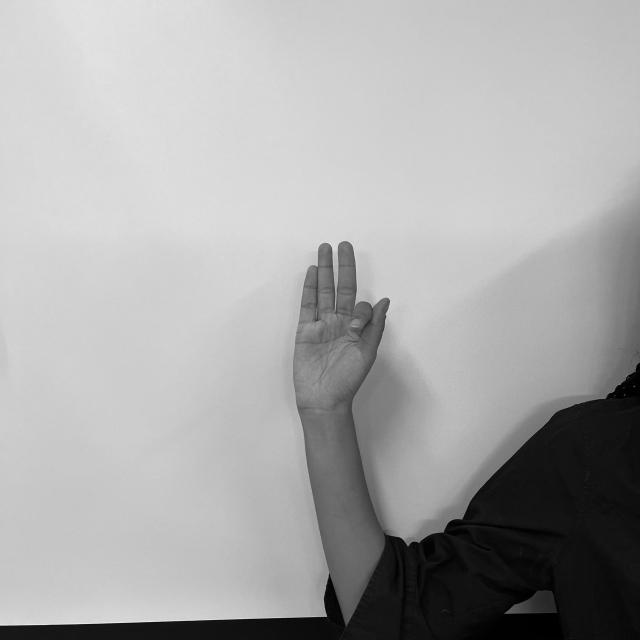Letra F: (286, 238, 394, 413)
